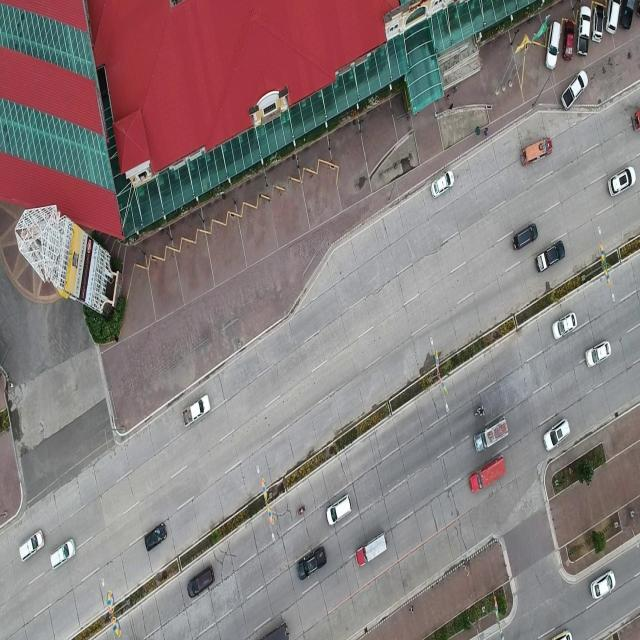Car: (296, 546, 328, 581), (542, 418, 572, 453), (606, 166, 636, 199), (49, 537, 77, 572), (18, 528, 46, 563), (429, 168, 456, 202), (590, 569, 617, 600), (143, 521, 169, 552), (584, 340, 612, 368), (552, 312, 579, 341), (512, 223, 538, 253), (590, 5, 606, 44), (562, 19, 575, 61)
Cycle: (474, 403, 486, 418), (296, 505, 308, 517)
Truck: (560, 69, 590, 112), (534, 240, 566, 276), (182, 393, 212, 429), (576, 5, 592, 59)
Van: (469, 454, 508, 494), (474, 415, 511, 455), (355, 530, 389, 570), (520, 135, 554, 167), (187, 564, 216, 598), (325, 493, 353, 526), (544, 20, 561, 72)
